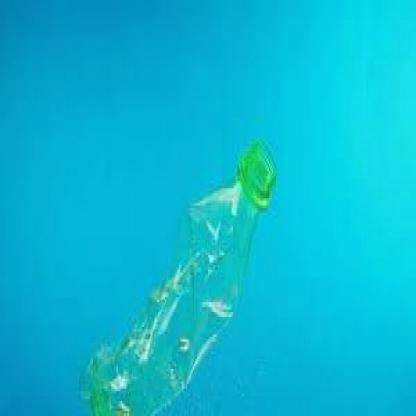pbottle: (74, 136, 280, 416)
